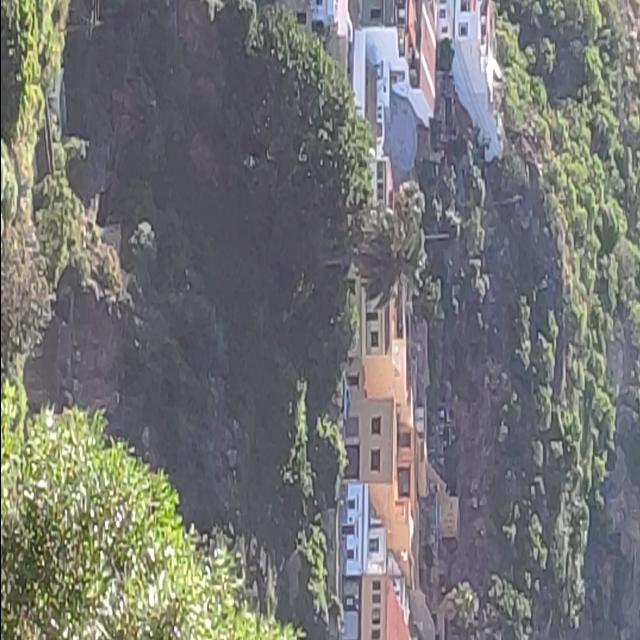Palm-Trees: (322, 208, 427, 314)
